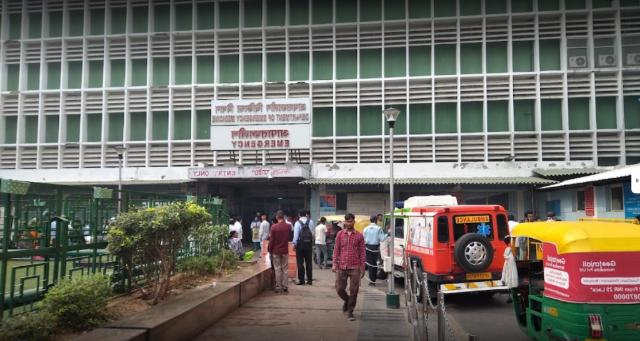ambulance: (372, 198, 511, 302)
